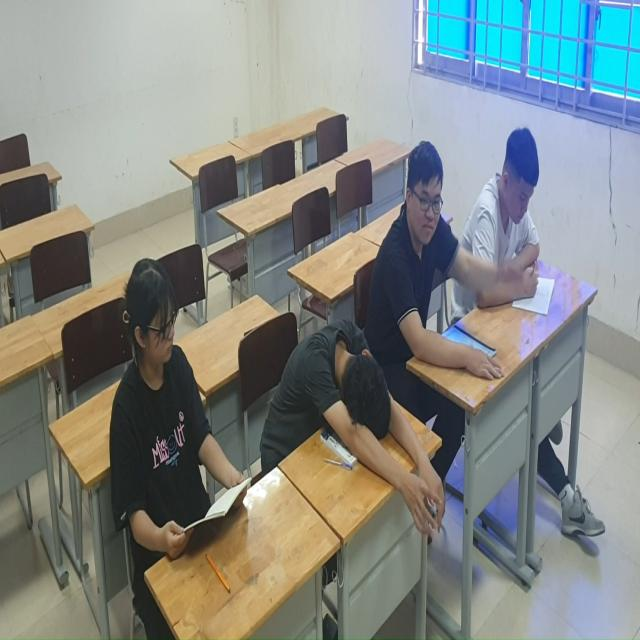read: (98, 256, 256, 585), (478, 126, 547, 308)
sleep: (264, 321, 449, 545)
